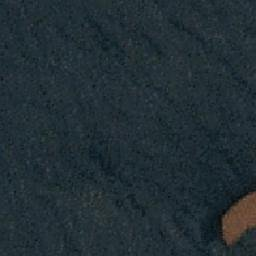debris: (223, 189, 255, 249)
